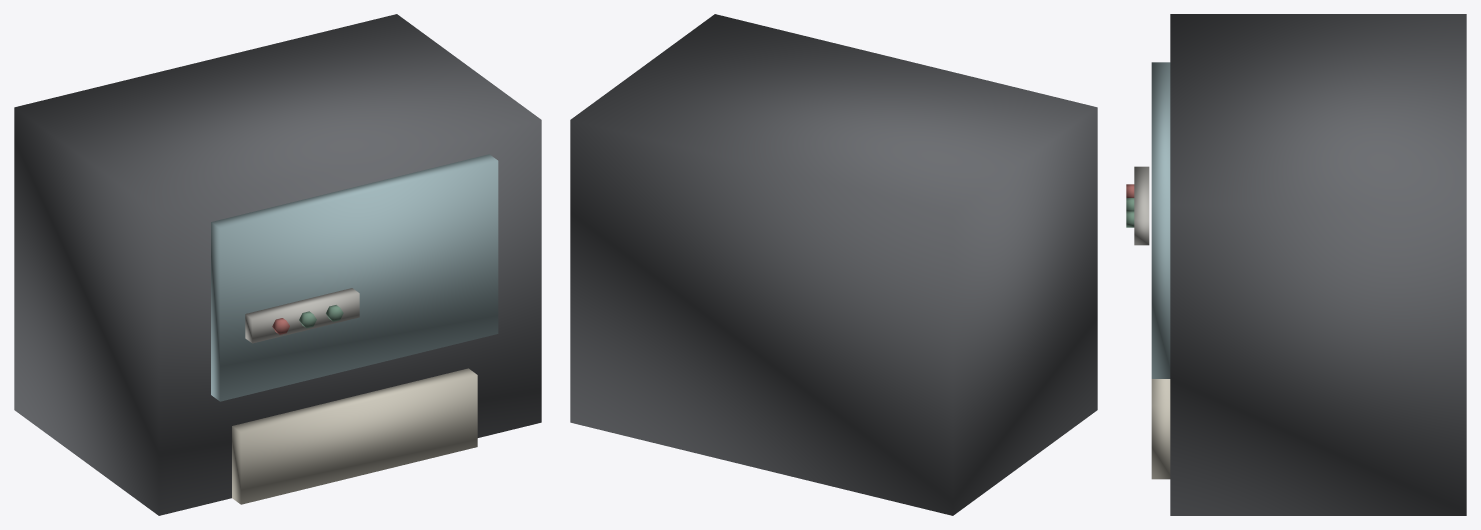
File: terminal_pedestal__reinforced.glb
The picture shows the model from 3 angles, left to right: view 1: azimuth 30°, elevation 25°; view 2: azimuth 150°, elevation 25°; view 3: azimuth 270°, elevation 25°; orthographic projection. The views are drawn at different scales.
Parts seen in each view (by area): view 1: world; view 2: world; view 3: world.
Boxes of the visible parts, box(x1,y1,x2,y2) form: world: box(14, 14, 541, 515); world: box(570, 14, 1097, 515); world: box(1126, 14, 1466, 515).
Bounding box in the file's own units: 0.5665 × 0.4284 × 0.4259.
